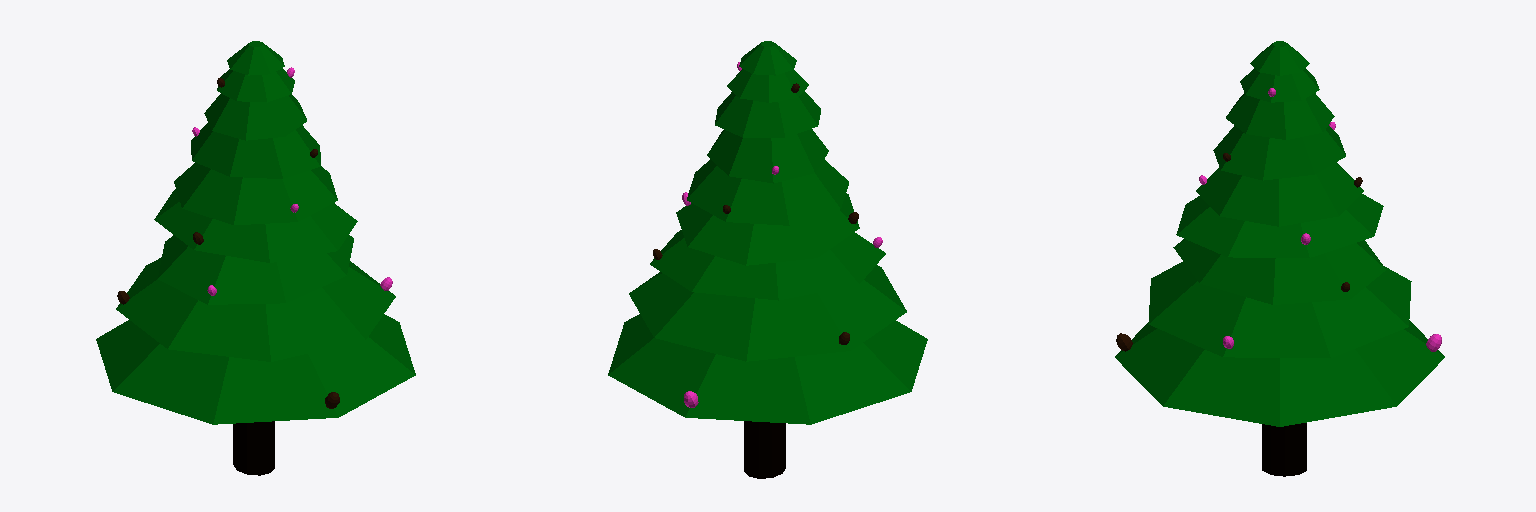
Rendered from spr_tree.obj.
3 views of the same model, side by side, from view 1: azimuth 30°, elevation 25°; view 2: azimuth 150°, elevation 25°; view 3: azimuth 270°, elevation 25° (orthographic).
Visible parts, largest first — view 1: group19 pCylinder2, group19 pasted__pCylinder2, group19 pasted__pCylinder3, group19 pasted__pCylinder4, group19 pasted__pCylinder5, group19 pasted__pCylinder6, group19 pasted__pCylinder7, pCylinder1 group19, group19 pasted__pCylinder8, group19 pasted__pCylinder9; view 2: group19 pCylinder2, group19 pasted__pCylinder2, group19 pasted__pCylinder3, group19 pasted__pCylinder5, group19 pasted__pCylinder4, group19 pasted__pCylinder6, group19 pasted__pCylinder7, pCylinder1 group19, group19 pasted__pCylinder8, group19 pasted__pCylinder9; view 3: group19 pCylinder2, group19 pasted__pCylinder2, group19 pasted__pCylinder3, group19 pasted__pCylinder4, group19 pasted__pCylinder5, group19 pasted__pCylinder6, group19 pasted__pCylinder7, pCylinder1 group19, group19 pasted__pCylinder8, group19 pasted__pCylinder9.
Part boxes in pixels (left/top/right/bottom): group19 pCylinder2: left=96, top=314, right=415, bottom=424; group19 pasted__pCylinder2: left=116, top=257, right=395, bottom=361; group19 pasted__pCylinder3: left=158, top=235, right=353, bottom=304; group19 pasted__pCylinder4: left=154, top=189, right=357, bottom=262; group19 pasted__pCylinder5: left=174, top=162, right=337, bottom=224; group19 pasted__pCylinder6: left=191, top=123, right=320, bottom=178; group19 pasted__pCylinder7: left=204, top=93, right=306, bottom=140; pCylinder1 group19: left=233, top=421, right=274, bottom=475; group19 pasted__pCylinder8: left=217, top=68, right=294, bottom=102; group19 pasted__pCylinder9: left=227, top=41, right=284, bottom=75; group19 pCylinder2: left=608, top=314, right=927, bottom=424; group19 pasted__pCylinder2: left=629, top=265, right=906, bottom=361; group19 pasted__pCylinder3: left=650, top=230, right=885, bottom=300; group19 pasted__pCylinder5: left=687, top=159, right=848, bottom=225; group19 pasted__pCylinder4: left=676, top=193, right=859, bottom=265; group19 pasted__pCylinder6: left=707, top=129, right=828, bottom=183; group19 pasted__pCylinder7: left=715, top=91, right=820, bottom=137; pCylinder1 group19: left=744, top=421, right=785, bottom=478; group19 pasted__pCylinder8: left=727, top=69, right=808, bottom=102; group19 pasted__pCylinder9: left=739, top=41, right=796, bottom=75; group19 pCylinder2: left=1115, top=320, right=1444, bottom=426; group19 pasted__pCylinder2: left=1148, top=261, right=1411, bottom=357; group19 pasted__pCylinder3: left=1173, top=239, right=1385, bottom=304; group19 pasted__pCylinder4: left=1176, top=194, right=1383, bottom=257; group19 pasted__pCylinder5: left=1196, top=162, right=1363, bottom=226; group19 pasted__pCylinder6: left=1213, top=125, right=1345, bottom=180; group19 pasted__pCylinder7: left=1226, top=93, right=1334, bottom=139; pCylinder1 group19: left=1262, top=423, right=1306, bottom=476; group19 pasted__pCylinder8: left=1240, top=68, right=1319, bottom=102; group19 pasted__pCylinder9: left=1250, top=41, right=1309, bottom=75.
Size of the model in its own units: 4.82 by 6.81 by 4.82.